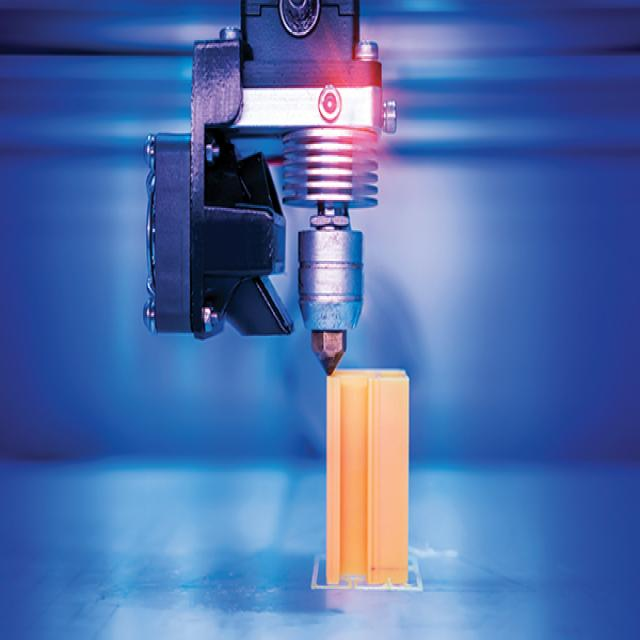cracks: (359, 542, 411, 582)
